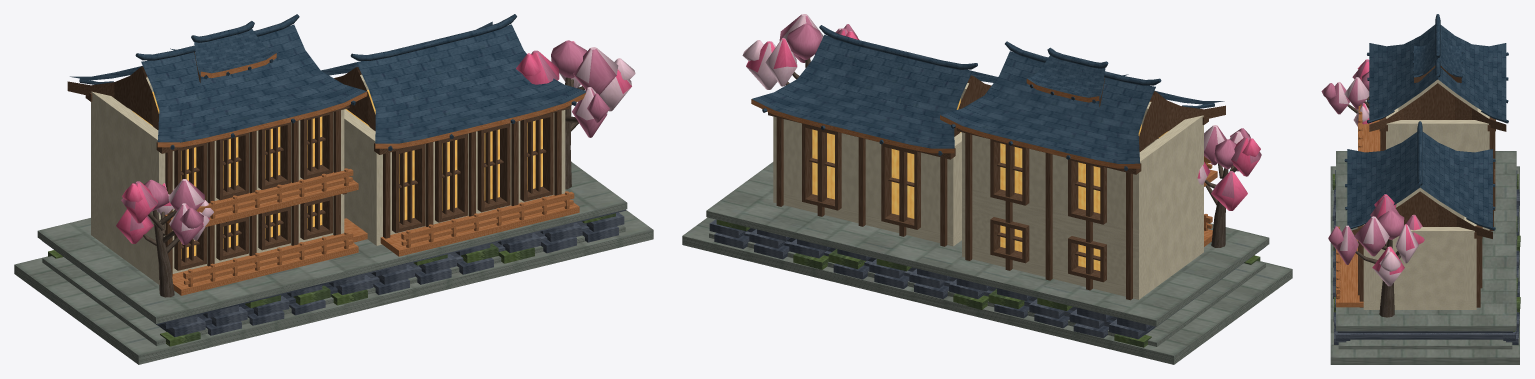
File: fuji_onsen_ryokan_mid.glb
3 renders of one model, left to right at view 1: azimuth 30°, elevation 25°; view 2: azimuth 150°, elevation 25°; view 3: azimuth 270°, elevation 25°, orthographic. The views are drawn at different scales.
Parts seen in each view (by area): view 1: fuji_onsen_ryokan_mid; view 2: fuji_onsen_ryokan_mid; view 3: fuji_onsen_ryokan_mid.
Boxes of the visible parts, x1=… form: fuji_onsen_ryokan_mid: x1=14, y1=14, x2=653, y2=364; fuji_onsen_ryokan_mid: x1=682, y1=14, x2=1292, y2=364; fuji_onsen_ryokan_mid: x1=1321, y1=14, x2=1520, y2=364.
Bounding box in the file's own units: 26 × 11.5 × 11.
2 materials, 2 textured.
